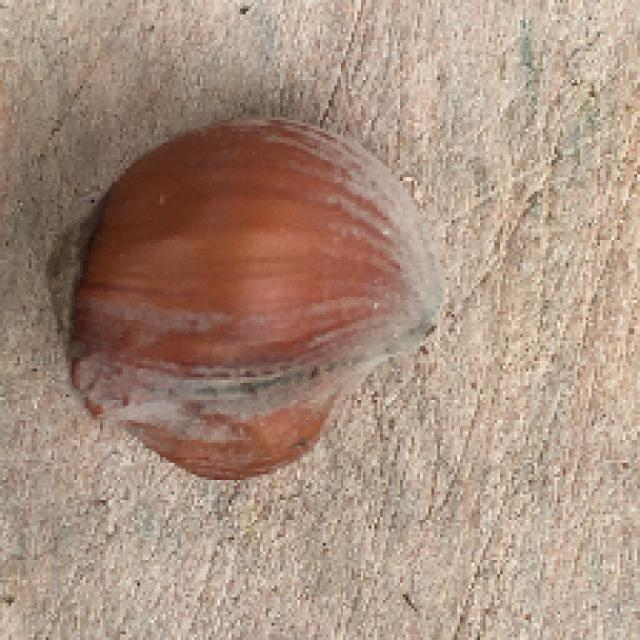qualityHazelnut: (38, 106, 448, 485)
